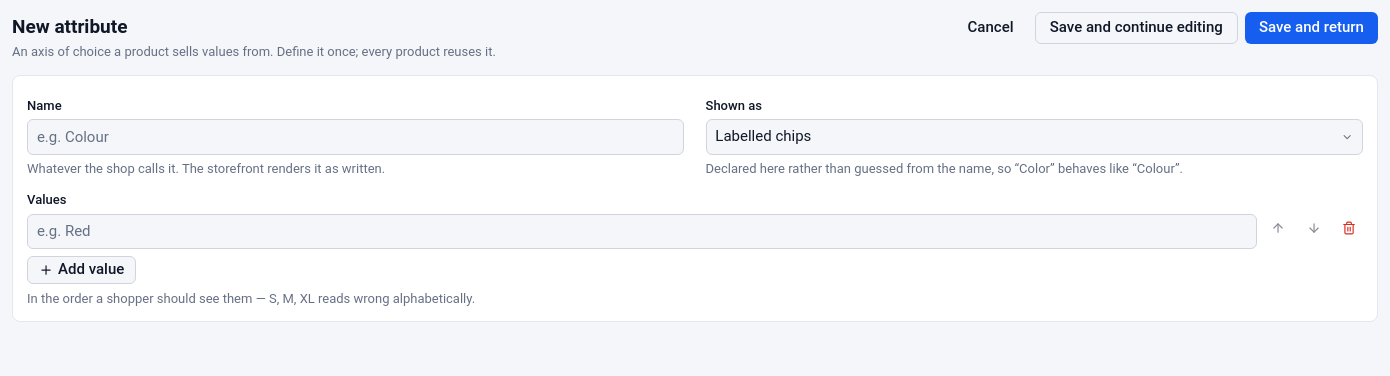
Test: AttributeFormPage — an attribute keeps at least one value › refuses a save that removes every row, with the reason against the list
Step 1. Type "Colour" into the field labelled "Name" → (356, 137), box [27,119,684,155]
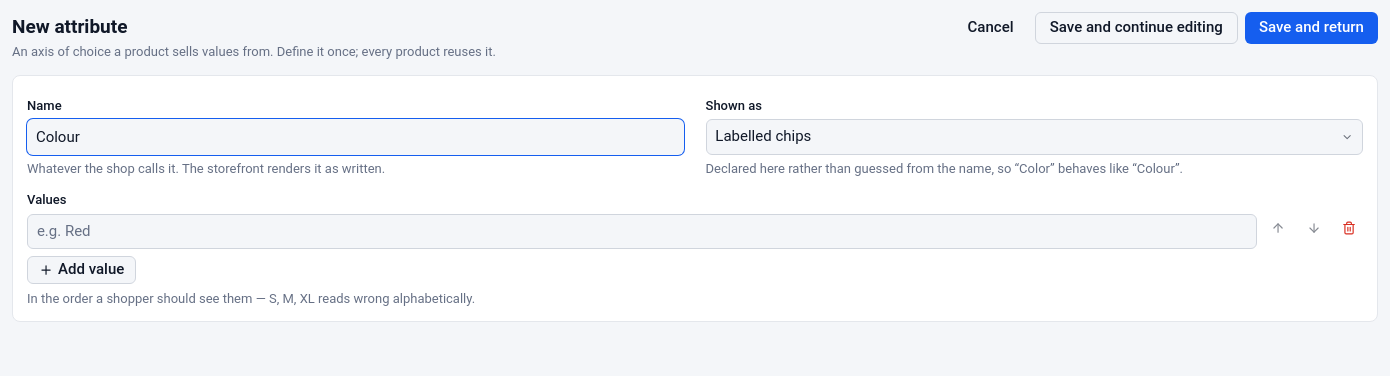
Step 2. Click the button named "Remove value" → click(1349, 228), box [1335,214,1363,242]
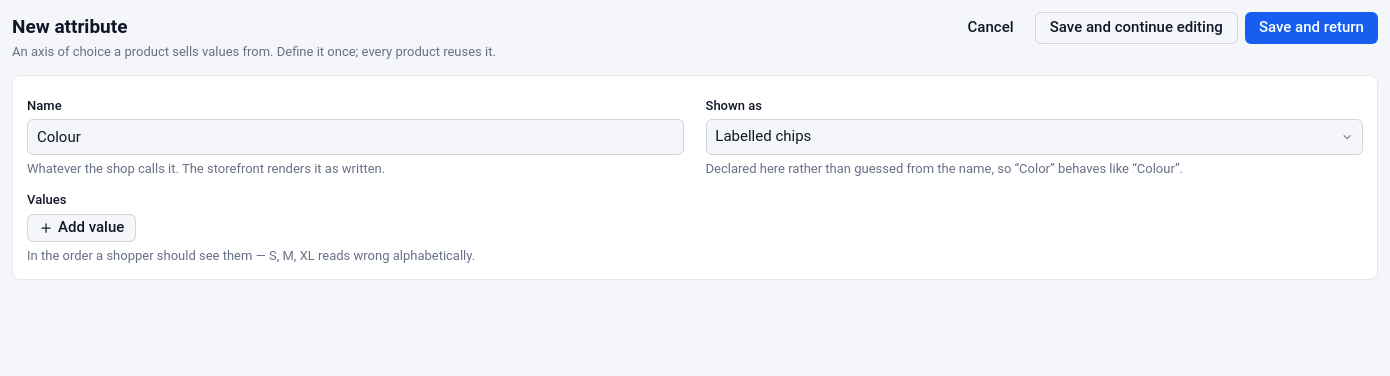
Step 3. Click the button "Save and continue editing" → click(1136, 28), box [1035,12,1238,44]
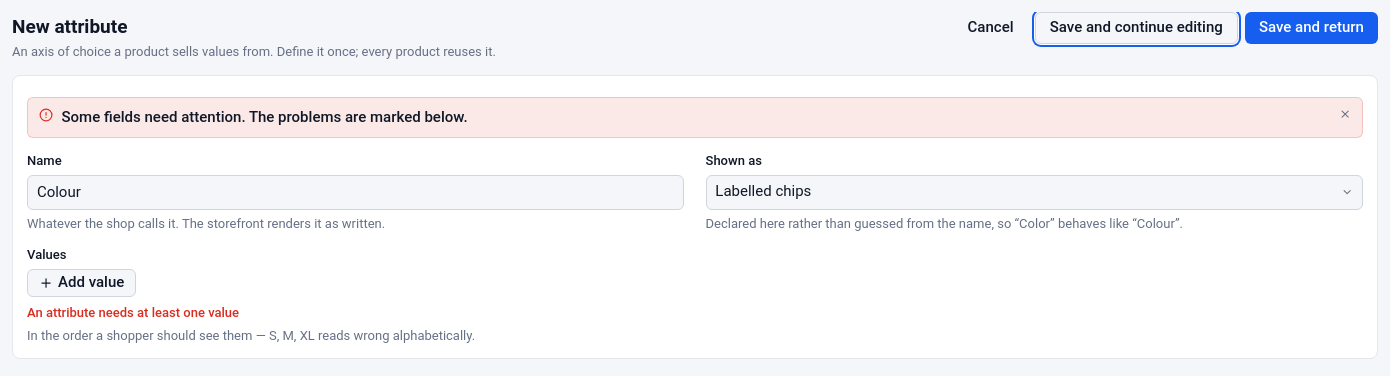
Check: the text "An attribute needs at least one value" is shown, box [27,305,239,320]
